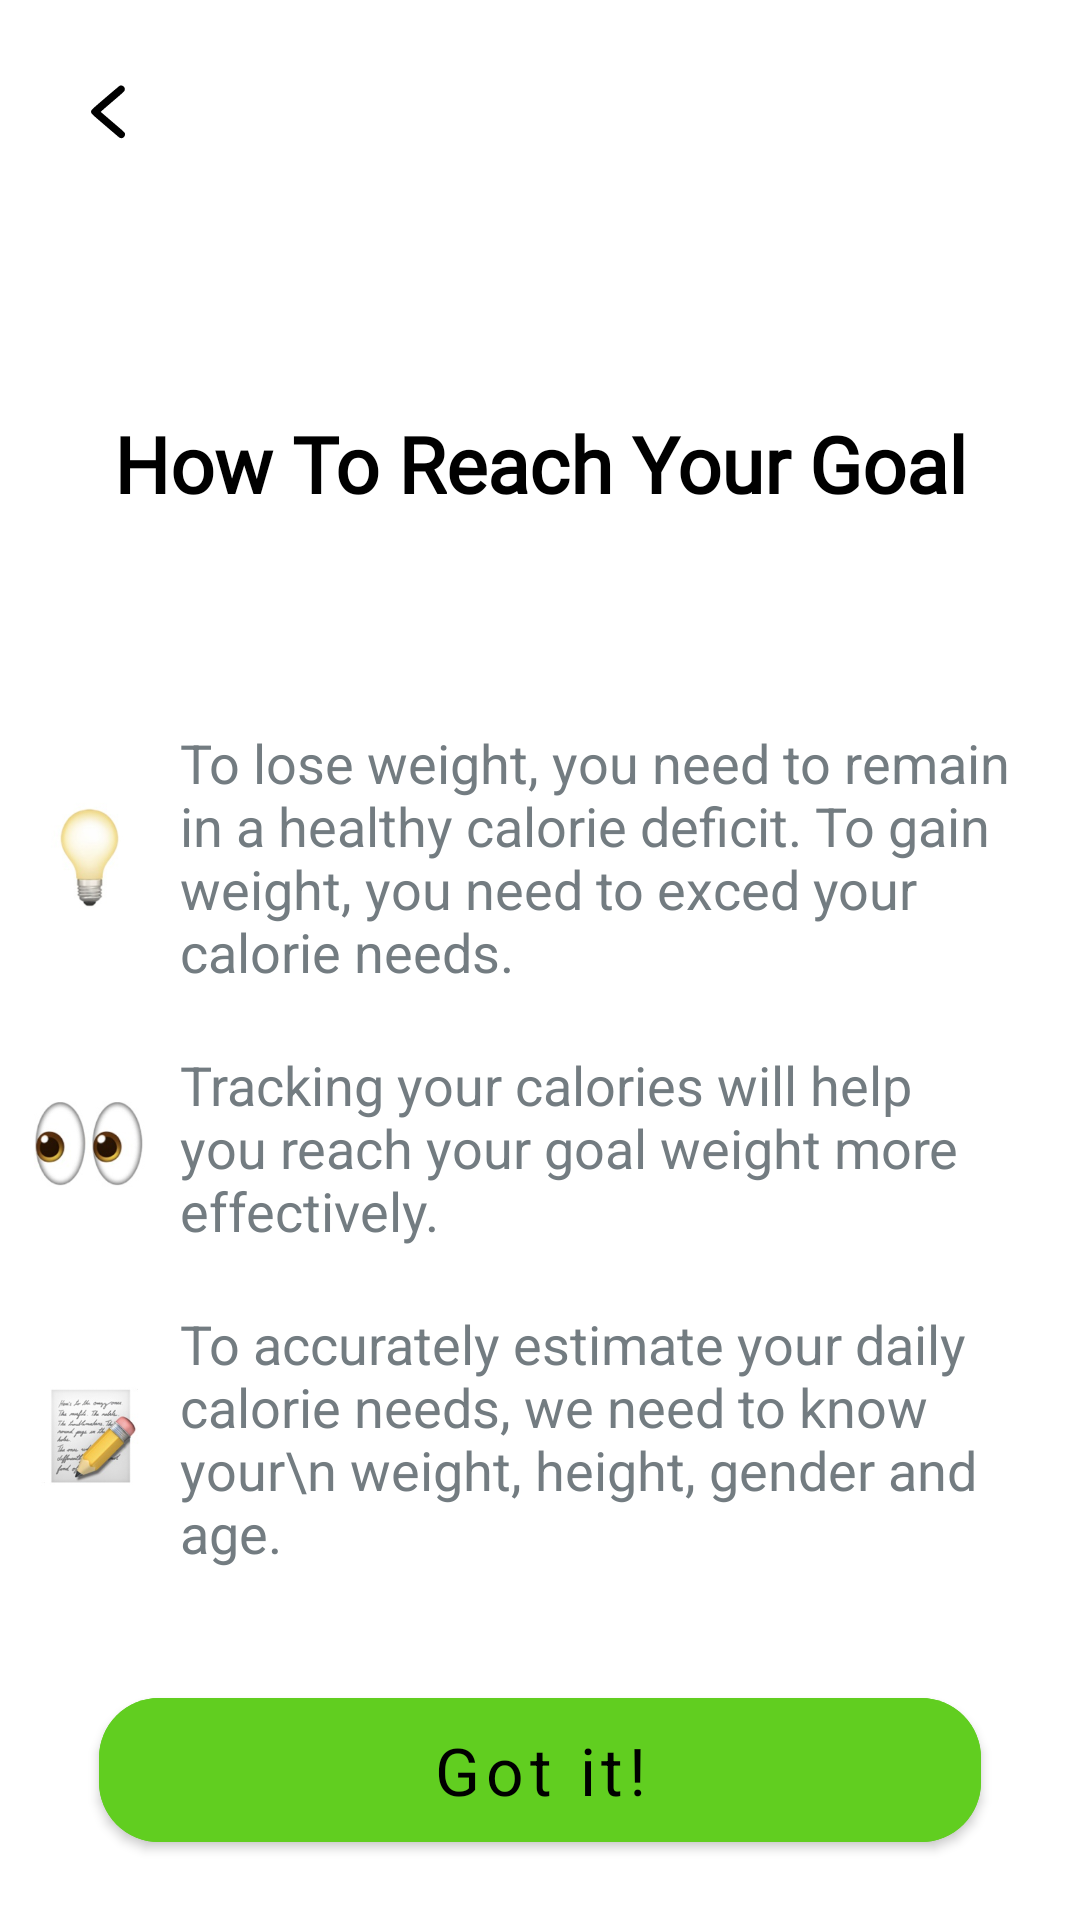

Point at icon controls on the screen. Image size 1080 x 1920, points as point (x, y).
arrow back: point (108, 112)
eyes: point (89, 1143)
notes: point (93, 1436)
